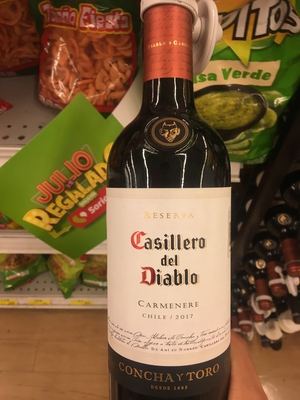casillero del diablo carmenere: (93, 29, 238, 400)
